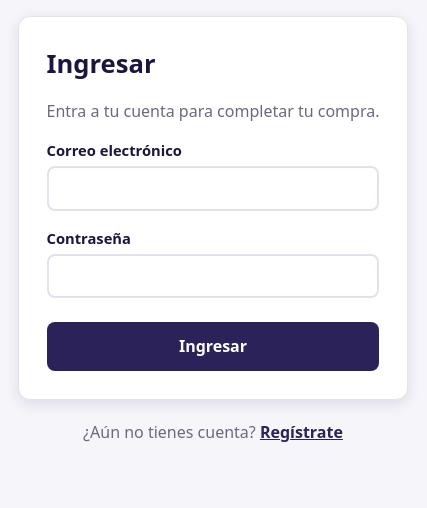
Scenario: Login › muestra los errores al enviar el formulario vacío
Click the button "Ingresar": {"x": 213, "y": 346} [46,322,380,371]
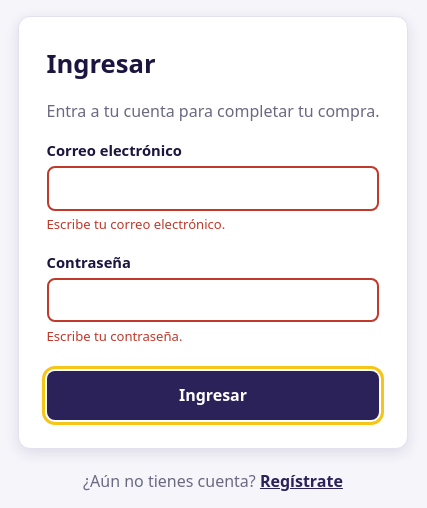
Expected: the text "Escribe tu correo electrónico." is shown, [46,215,225,233]
Expected: the text "Escribe tu contraseña." is shown, [46,327,182,345]
